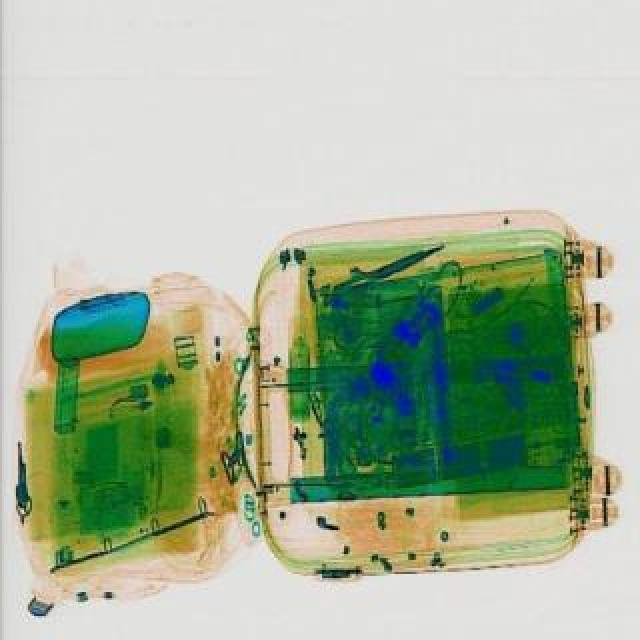knife: (322, 232, 446, 298)
